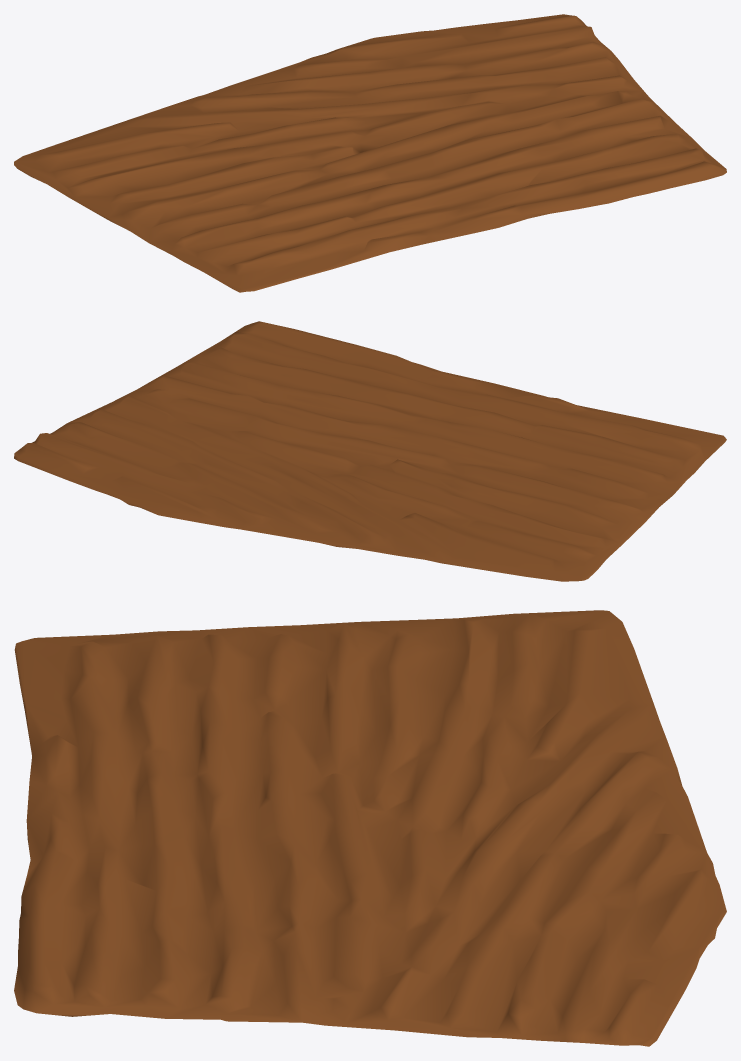
The model's file is Farm.fbx.
3 views of the same model, one above another, from view 1: azimuth 30°, elevation 25°; view 2: azimuth 150°, elevation 25°; view 3: azimuth 270°, elevation 25° (orthographic). The views are drawn at different scales.
Visible parts, largest first — view 1: Farm; view 2: Farm; view 3: Farm.
Part boxes in pixels (x1,y1,x2,y2): Farm: (14,14,726,292); Farm: (14,321,726,581); Farm: (14,610,726,1046).
Size of the model in its own units: 2108 by 42.18 by 1458.
